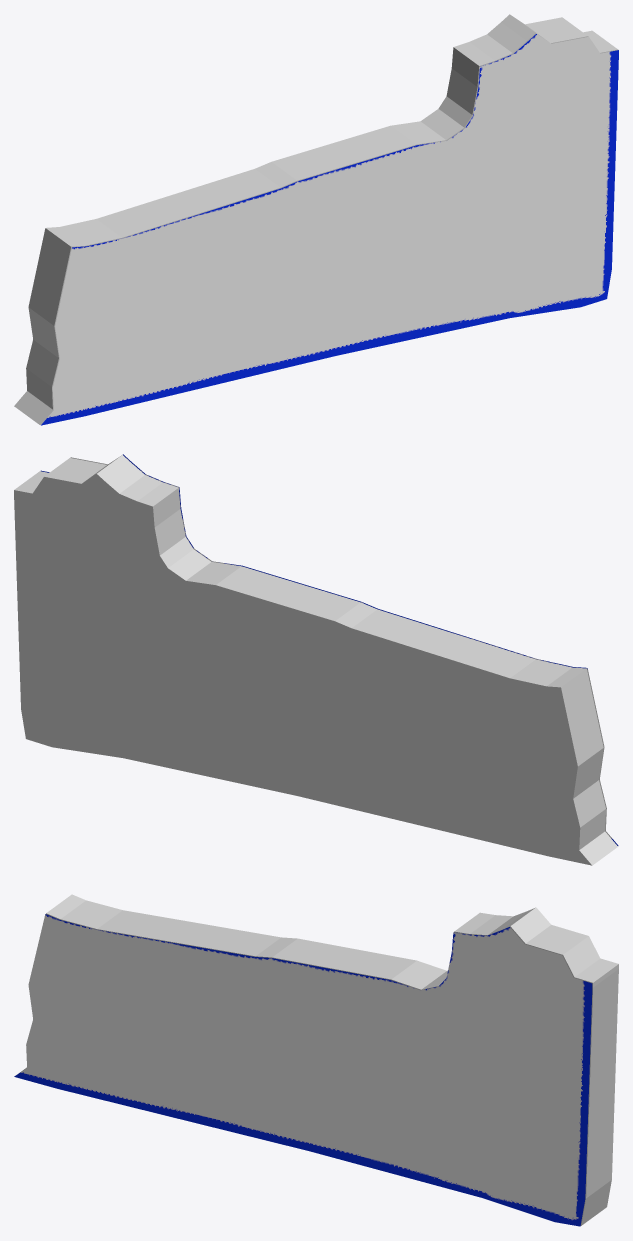
The picture shows the model from 3 angles, top to bottom: view 1: azimuth 30°, elevation 25°; view 2: azimuth 150°, elevation 25°; view 3: azimuth 330°, elevation 25°; orthographic projection.
Parts seen in each view (by area): view 1: Out_3_1, Out_3_0; view 2: Out_3_0, Out_3_1; view 3: Out_3_1, Out_3_0.
Part boxes in pixels (x1,y1,x2,y2): Out_3_1: (41,34,618,425); Out_3_0: (14,14,618,424); Out_3_0: (14,455,617,865); Out_3_1: (41,454,618,845); Out_3_1: (14,914,592,1226); Out_3_0: (18,894,618,1225).
Size of the model in its own units: 6.46 by 3.04 by 0.515.
Materials: 2 (1 with a texture image).
